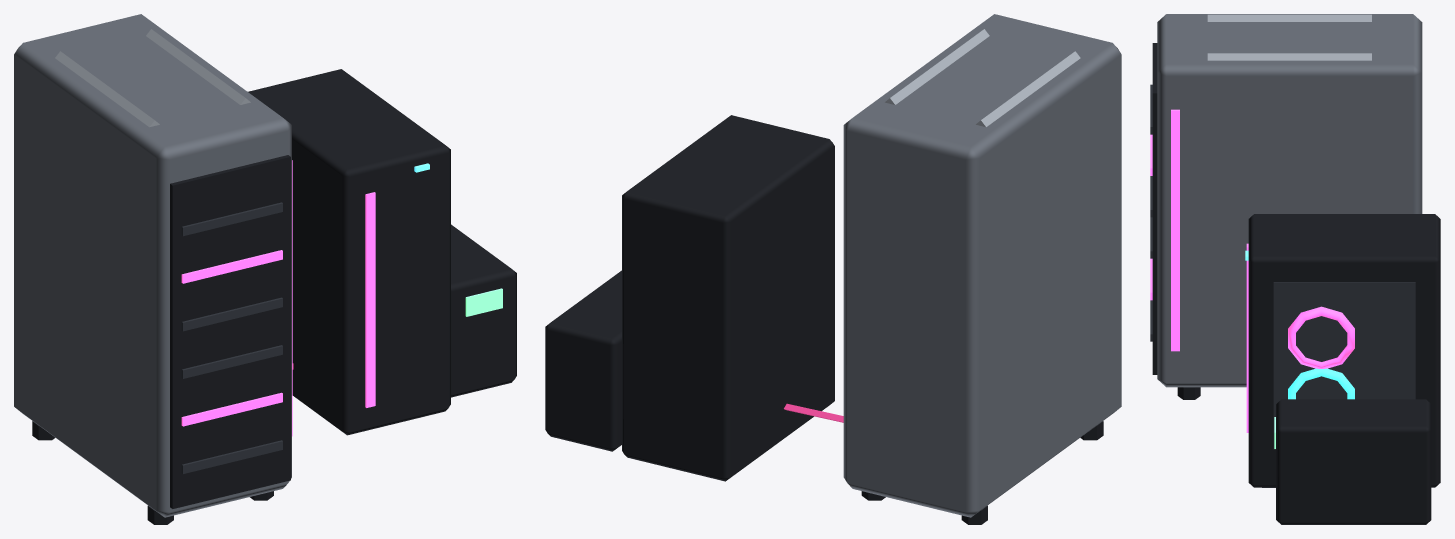
The model's file is station_processing_ausstattung_1_3.glb.
The picture shows the model from 3 angles, left to right: view 1: azimuth 30°, elevation 25°; view 2: azimuth 150°, elevation 25°; view 3: azimuth 270°, elevation 25°; orthographic projection. The views are drawn at different scales.
Parts seen in each view (by area): view 1: station_processing_ausstattung_1_3; view 2: station_processing_ausstattung_1_3; view 3: station_processing_ausstattung_1_3.
Part boxes in pixels (x1,y1,x2,y2): station_processing_ausstattung_1_3: [14, 14, 516, 524]; station_processing_ausstattung_1_3: [545, 14, 1121, 524]; station_processing_ausstattung_1_3: [1150, 14, 1440, 524].
Bounding box in the file's own units: 0.94 × 0.822 × 0.635.
